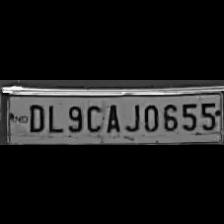0: (139, 100, 159, 132)
5: (198, 98, 218, 130), (179, 98, 197, 130)
6: (160, 99, 178, 131)
9: (64, 100, 82, 132)
A: (102, 99, 122, 133)
C: (83, 100, 103, 132)
D: (24, 100, 46, 132)
J: (122, 100, 140, 132)
L: (44, 100, 61, 132)
